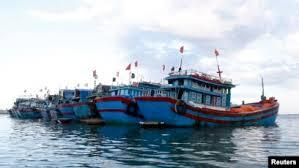Ship: (136, 73, 280, 128), (97, 83, 160, 125), (73, 103, 106, 125)
